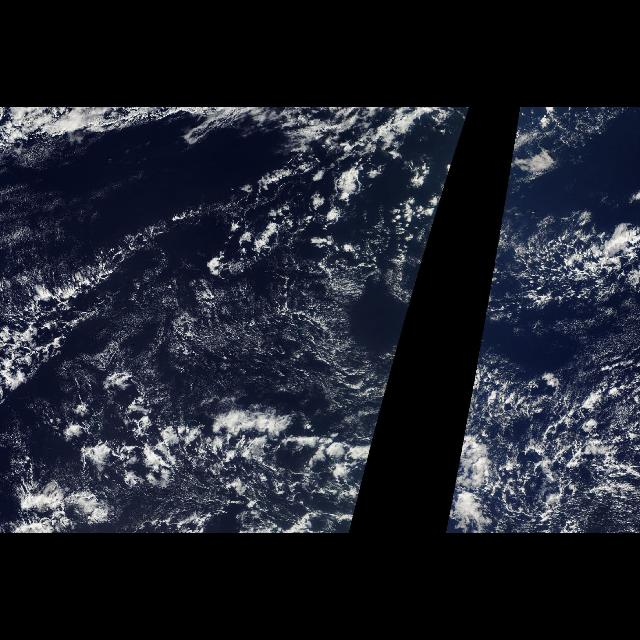Gravel: (462, 205, 640, 532), (13, 268, 206, 492)
Sugar: (138, 280, 388, 404), (5, 160, 58, 300)
